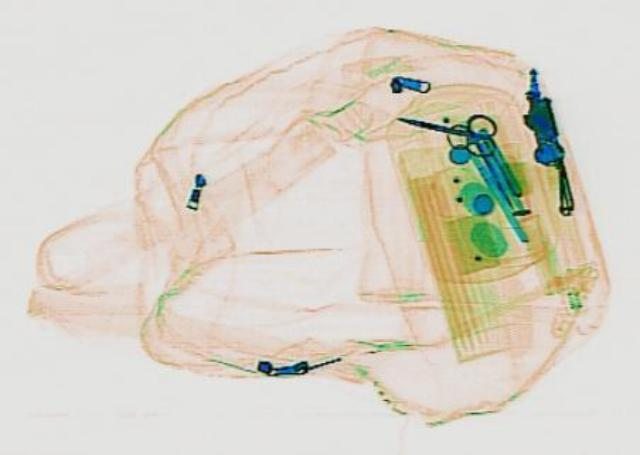Pliers: (384, 97, 508, 157)
